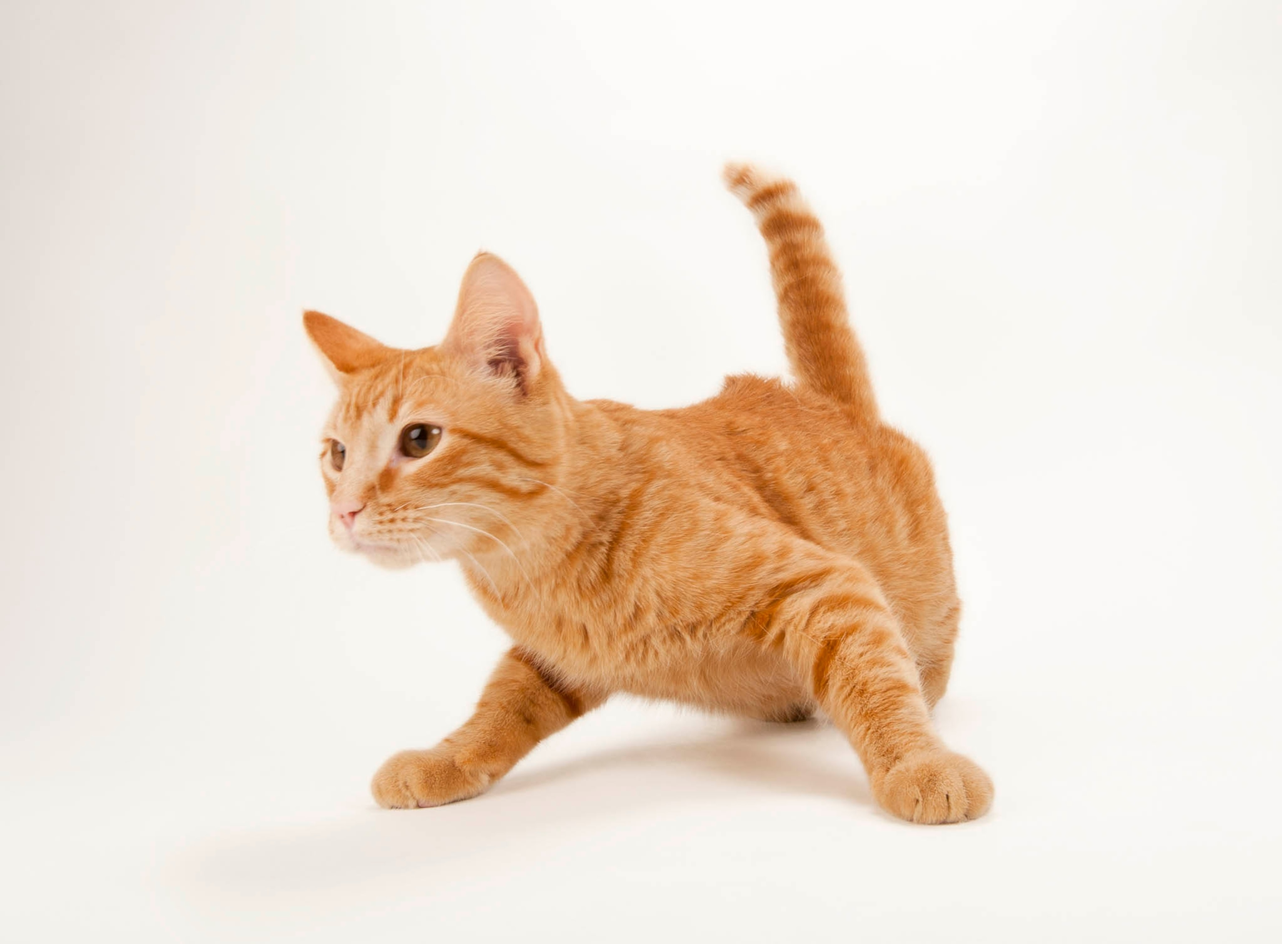Cat: (241, 154, 1073, 847)
